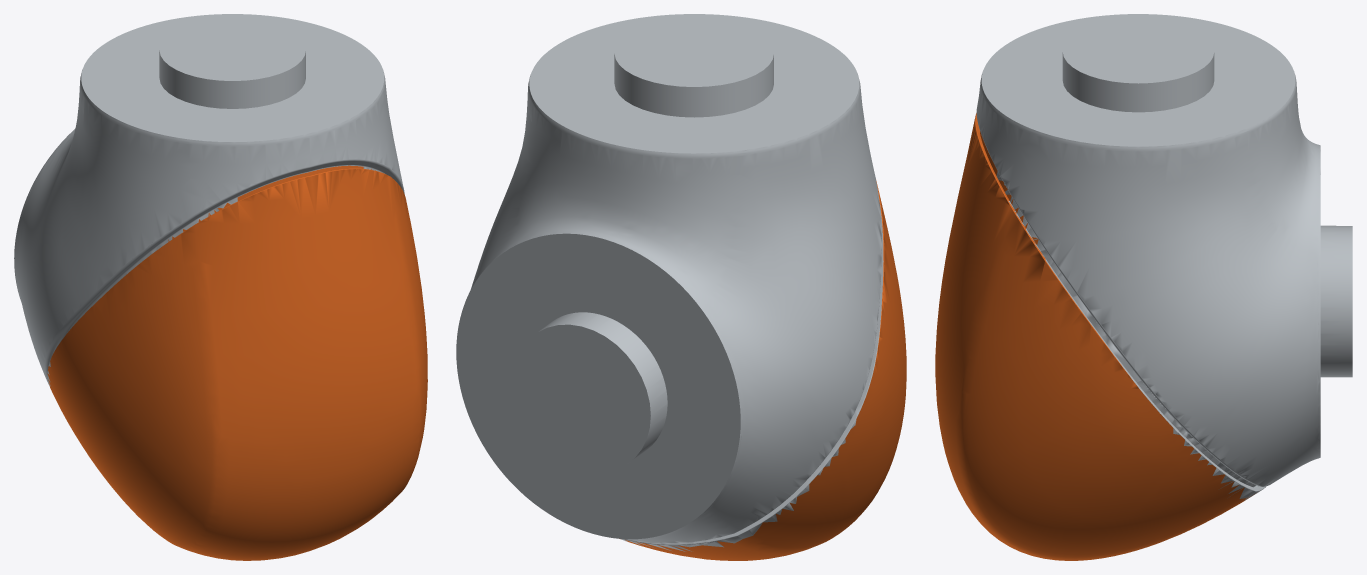
3 views of the same model, side by side, from view 1: azimuth 30°, elevation 25°; view 2: azimuth 150°, elevation 25°; view 3: azimuth 270°, elevation 25° (orthographic). The views are drawn at different scales.
Parts seen in each view (by area): view 1: world; view 2: world; view 3: world.
Part boxes in pixels (x1=…): world: x1=14, y1=14, x2=427, y2=560; world: x1=456, y1=14, x2=906, y2=560; world: x1=935, y1=14, x2=1352, y2=560.
Bounding box in the file's own units: 0.1323 × 0.1774 × 0.1374.
